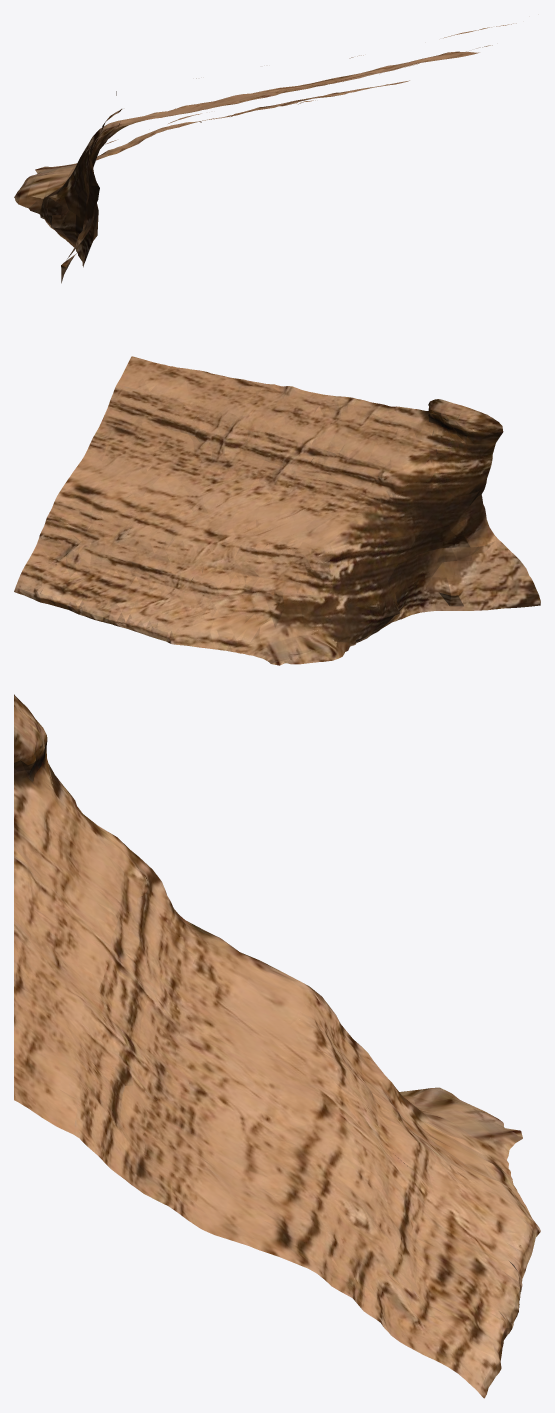
3 renders of one model, top to bottom at view 1: azimuth 30°, elevation 25°; view 2: azimuth 150°, elevation 25°; view 3: azimuth 270°, elevation 25°, orthographic. The views are drawn at different scales.
Bounding box in the file's own units: 0.9794 × 0.4157 × 0.5463.
Materials: 2 (2 with a texture image).
